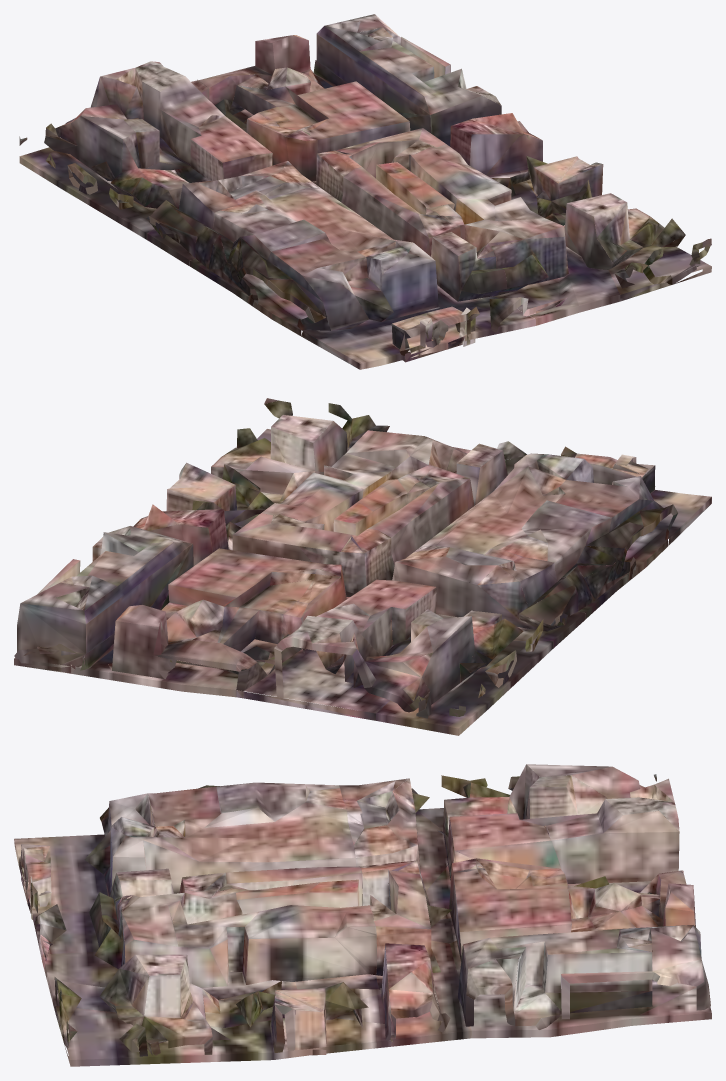
3 renders of one model, top to bottom at view 1: azimuth 30°, elevation 25°; view 2: azimuth 150°, elevation 25°; view 3: azimuth 270°, elevation 25°, orthographic. The views are drawn at different scales.
Parts seen in each view (by area): view 1: Mesh_0; view 2: Mesh_0; view 3: Mesh_0.
Part boxes in pixels (bbox=[...]): Mesh_0: bbox=[19, 14, 711, 369]; Mesh_0: bbox=[14, 398, 711, 735]; Mesh_0: bbox=[14, 764, 711, 1066].
Size of the model in its own units: 270 by 53.27 by 330.
2 materials, 2 textured.
